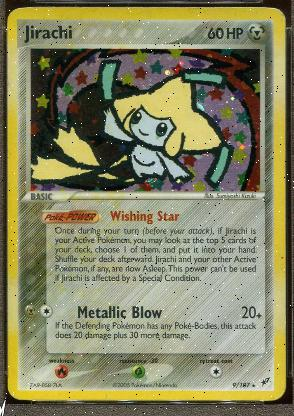Card: (4, 5, 286, 403)
Corner Wear: (274, 8, 285, 22)
Edge Wear: (32, 6, 190, 8), (207, 6, 260, 8)
